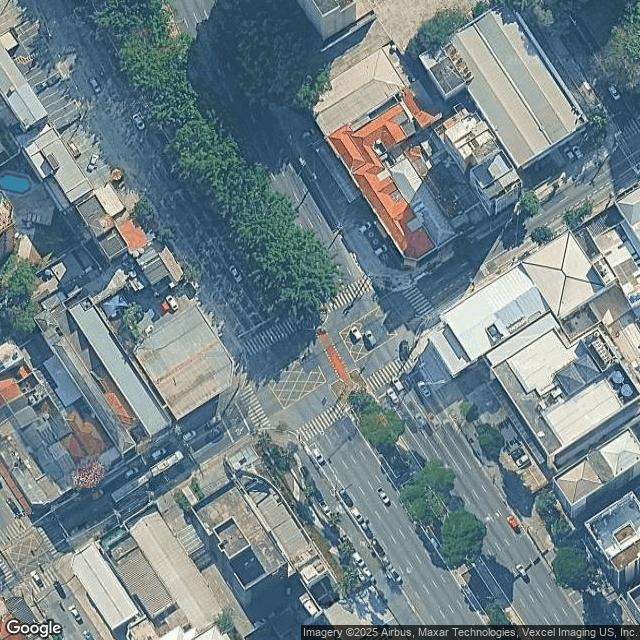pool: (11, 181, 30, 190)
